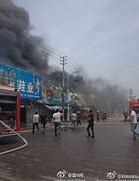smoke: (1, 1, 72, 74)
